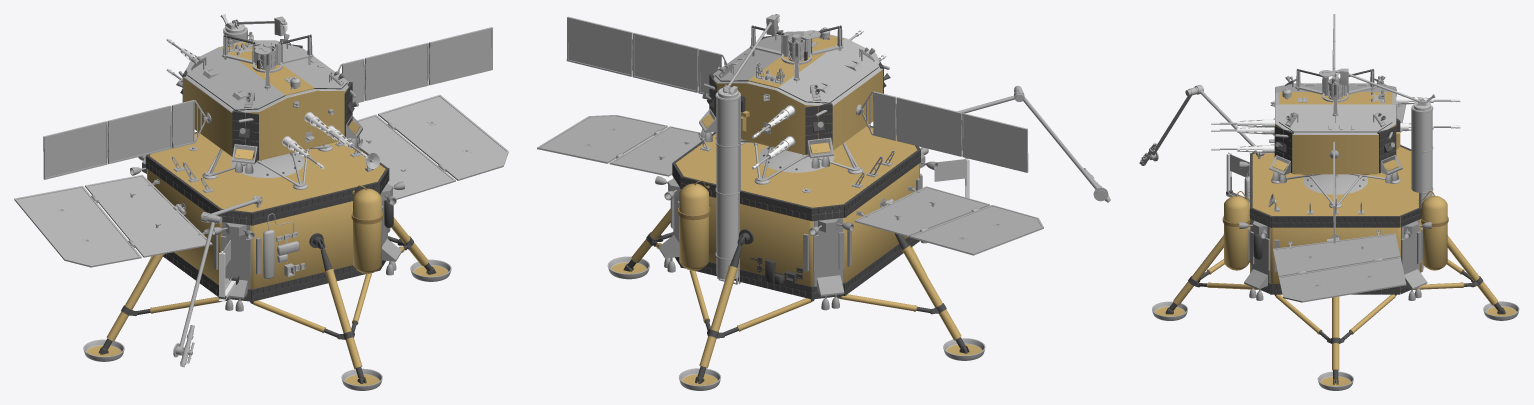
Rendered from change5.glb.
3 views of the same model, side by side, from view 1: azimuth 30°, elevation 25°; view 2: azimuth 150°, elevation 25°; view 3: azimuth 270°, elevation 25° (orthographic). The views are drawn at different scales.
Parts seen in each view (by area): view 1: CE_16, CE_456, CE_54, CE_60, CE_55, CE_61, CE_70, CE_471, CE_13, CE_545, CE_549, CE_547 (+28 smaller); view 2: CE_16, CE_456, CE_26, CE_54, CE_60, CE_12, CE_14, CE_471, CE_55, CE_549, CE_551, CE_545 (+30 smaller); view 3: CE_16, CE_456, CE_60, CE_61, CE_472, CE_42, CE_68, CE_23, CE_10, CE_11, CE_483, CE_62 (+17 smaller).
Boxes of the visible parts, x1,y1,x2,y2 form: CE_16: (148, 133, 385, 288); CE_456: (183, 42, 347, 160); CE_54: (17, 187, 138, 264); CE_60: (381, 96, 506, 177); CE_55: (88, 176, 206, 254); CE_61: (347, 116, 452, 197); CE_70: (250, 167, 389, 301); CE_471: (187, 48, 284, 109); CE_13: (212, 214, 261, 311); CE_545: (109, 108, 170, 161); CE_549: (431, 29, 491, 83); CE_547: (45, 123, 105, 177); CE_16: (675, 126, 919, 286); CE_456: (714, 35, 882, 155); CE_26: (716, 86, 740, 284); CE_54: (914, 206, 1041, 252); CE_60: (541, 116, 663, 161); CE_12: (803, 209, 853, 310); CE_14: (680, 176, 846, 299); CE_471: (778, 39, 878, 102); CE_55: (858, 188, 985, 234); CE_549: (568, 19, 630, 74); CE_551: (634, 35, 696, 90); CE_545: (898, 99, 960, 154); CE_16: (1250, 146, 1420, 292); CE_456: (1275, 92, 1396, 174); CE_60: (1281, 258, 1404, 300); CE_61: (1275, 234, 1398, 274); CE_472: (1279, 104, 1392, 131); CE_42: (1270, 207, 1421, 294); CE_68: (1421, 195, 1447, 270); CE_23: (1224, 196, 1249, 270); CE_10: (1239, 215, 1279, 300); CE_11: (1401, 214, 1431, 300); CE_483: (1211, 96, 1460, 153); CE_62: (1273, 232, 1406, 302).
Bounding box in the file's own units: 35036 × 21495 × 29296.
